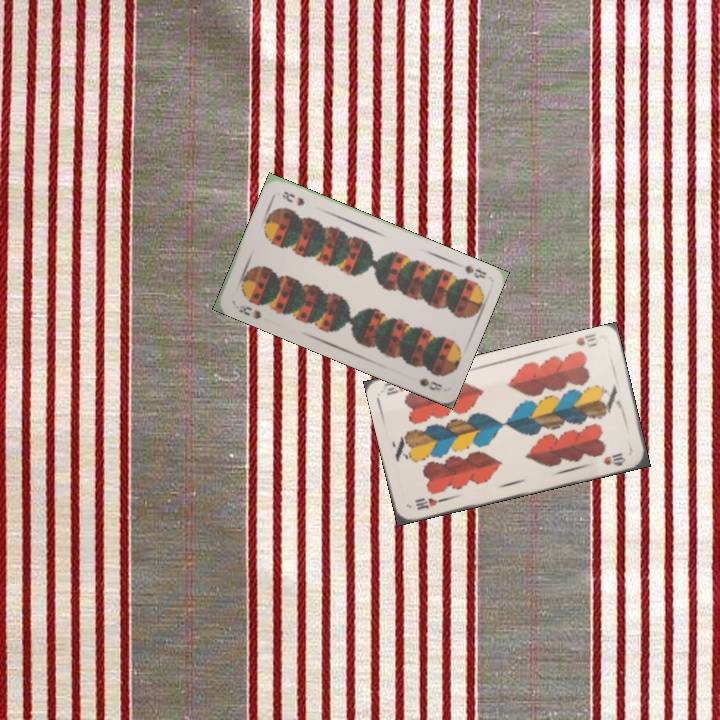H10: (411, 494, 448, 512), (572, 330, 600, 350)
S8: (230, 297, 264, 322), (460, 261, 489, 281)
